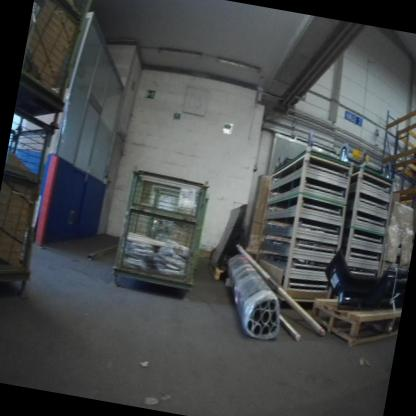pallet: (303, 288, 400, 356)
stillage: (105, 158, 212, 303), (0, 107, 66, 298), (14, 0, 92, 127), (138, 184, 214, 271), (33, 0, 98, 19)
